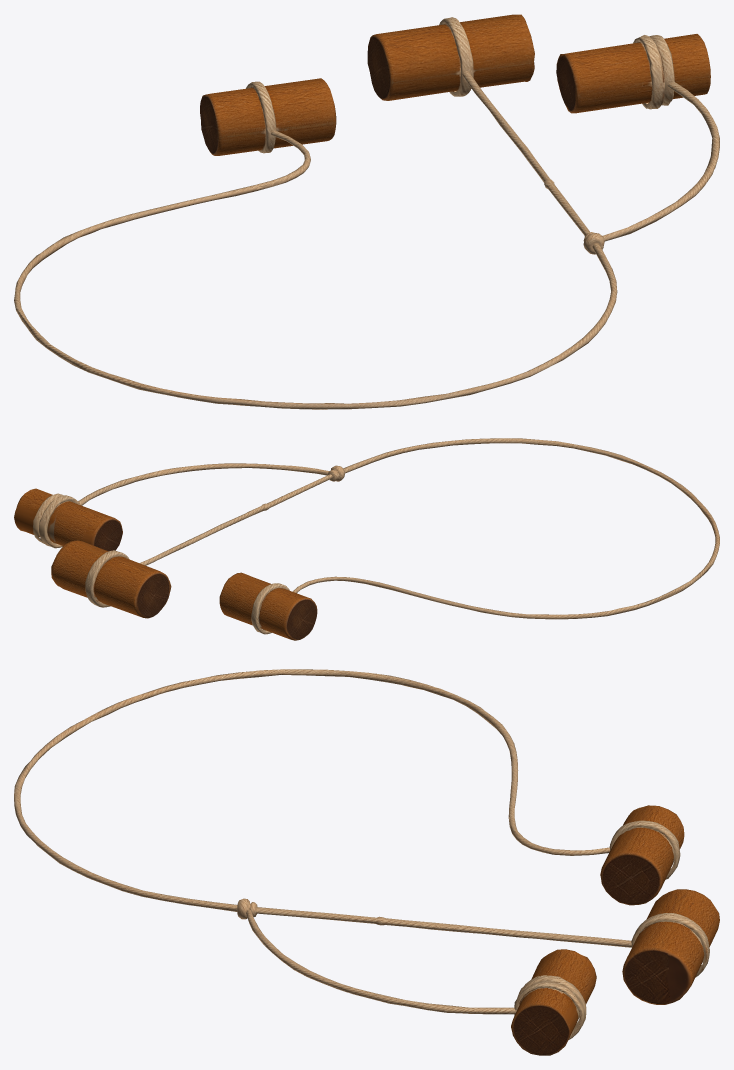
Rendered from M3D_liwi.fbx.
3 views of the same model, one above another, from view 1: azimuth 30°, elevation 25°; view 2: azimuth 150°, elevation 25°; view 3: azimuth 270°, elevation 25° (orthographic). The views are drawn at different scales.
Visible parts, largest first — view 1: SM_liwi; view 2: SM_liwi; view 3: SM_liwi.
Boxes of the visible parts, <box> form: SM_liwi: <box>14,14,719,409</box>; SM_liwi: <box>14,438,719,640</box>; SM_liwi: <box>14,669,719,1055</box>.
Size of the model in its own units: 0.5018 by 0.044 by 0.4131.
